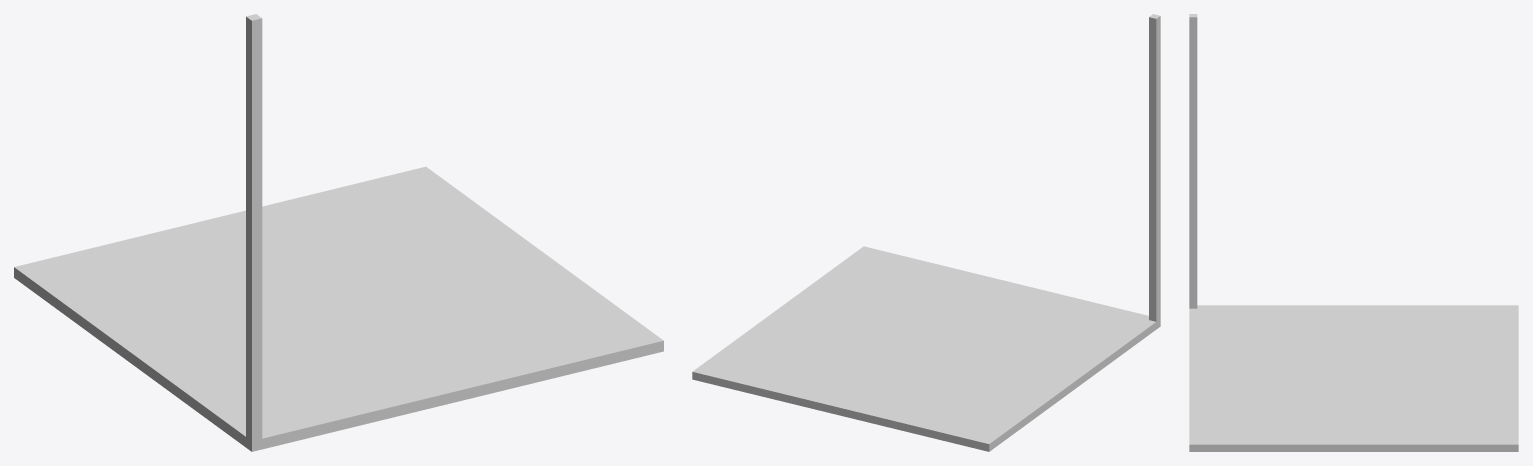
File: Inversed_corner.obj
3 views of the same model, side by side, from view 1: azimuth 30°, elevation 25°; view 2: azimuth 150°, elevation 25°; view 3: azimuth 270°, elevation 25° (orthographic). The views are drawn at different scales.
Size of the model in its own units: 4 by 4 by 4.
Materials: 1 (1 with a texture image).
